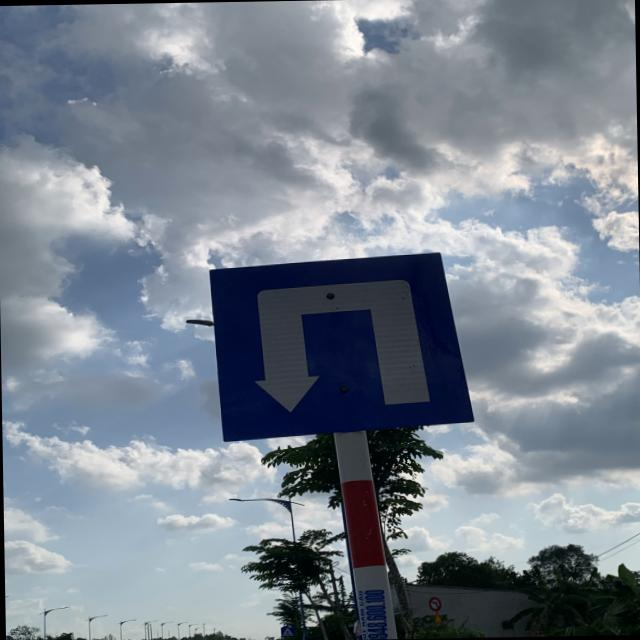Den_Giao_Thong: (207, 252, 480, 442)
